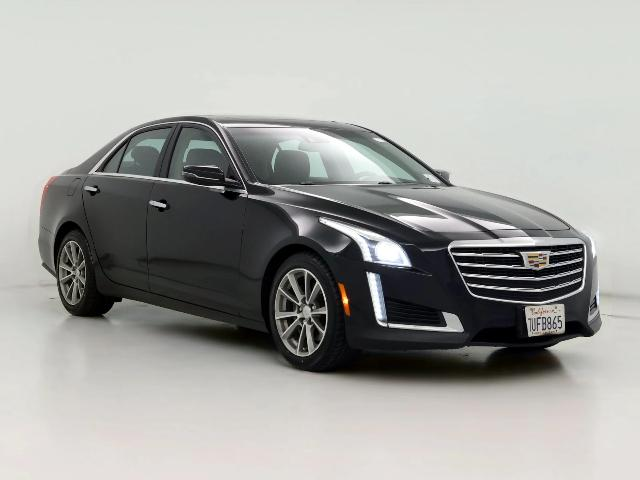cadillac: (38, 114, 602, 370)
